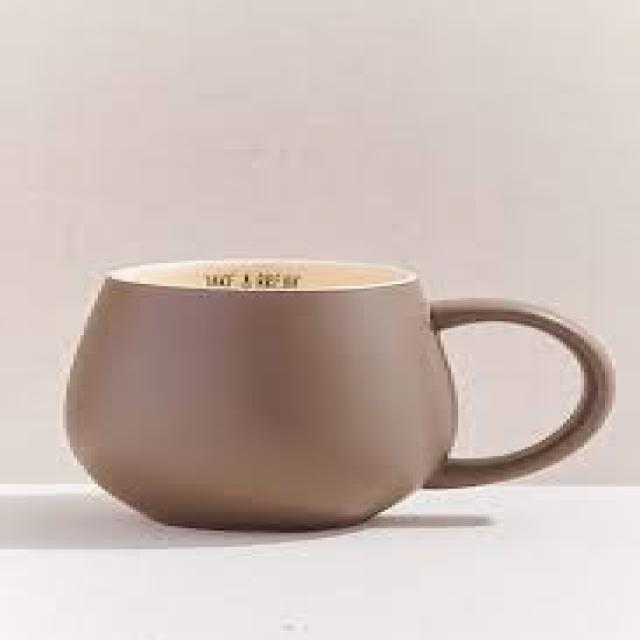taza: (58, 255, 616, 534)
